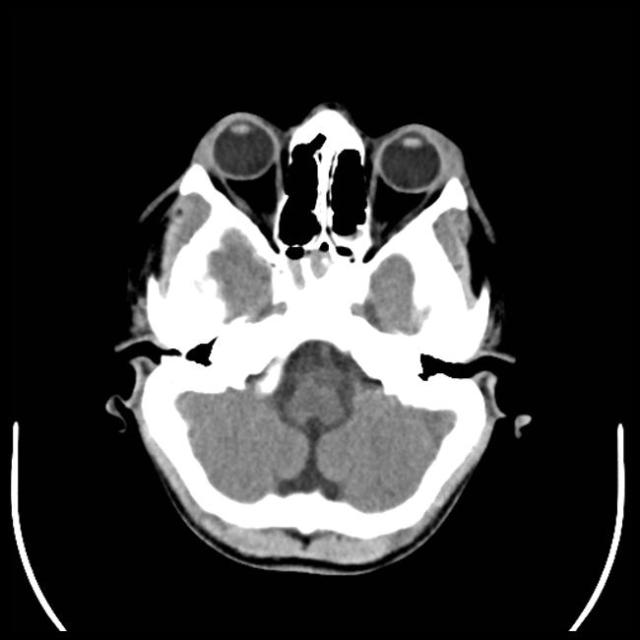lesion: (104, 98, 529, 577)
